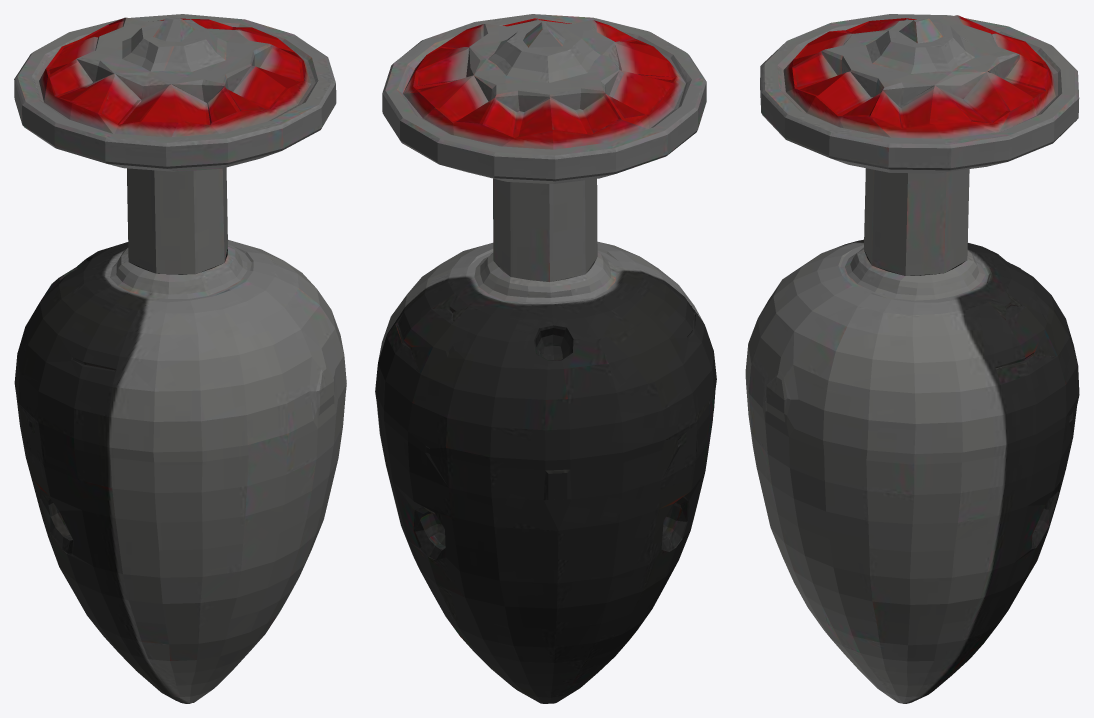
The model's file is plug.glb.
3 renders of one model, left to right at view 1: azimuth 30°, elevation 25°; view 2: azimuth 150°, elevation 25°; view 3: azimuth 270°, elevation 25°, orthographic.
Visible parts, largest first — view 1: vizcom_node_0; view 2: vizcom_node_0; view 3: vizcom_node_0.
Part boxes in pixels (bbox=[...]): vizcom_node_0: bbox=[14, 14, 346, 703]; vizcom_node_0: bbox=[375, 14, 716, 703]; vizcom_node_0: bbox=[745, 14, 1079, 703].
Bounding box in the file's own units: 0.3369 × 0.7454 × 0.333.
Materials: 1 (1 with a texture image).
